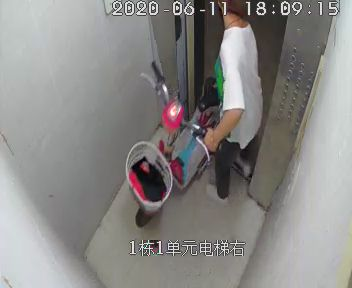Electric-bicycle: (125, 58, 223, 226)
